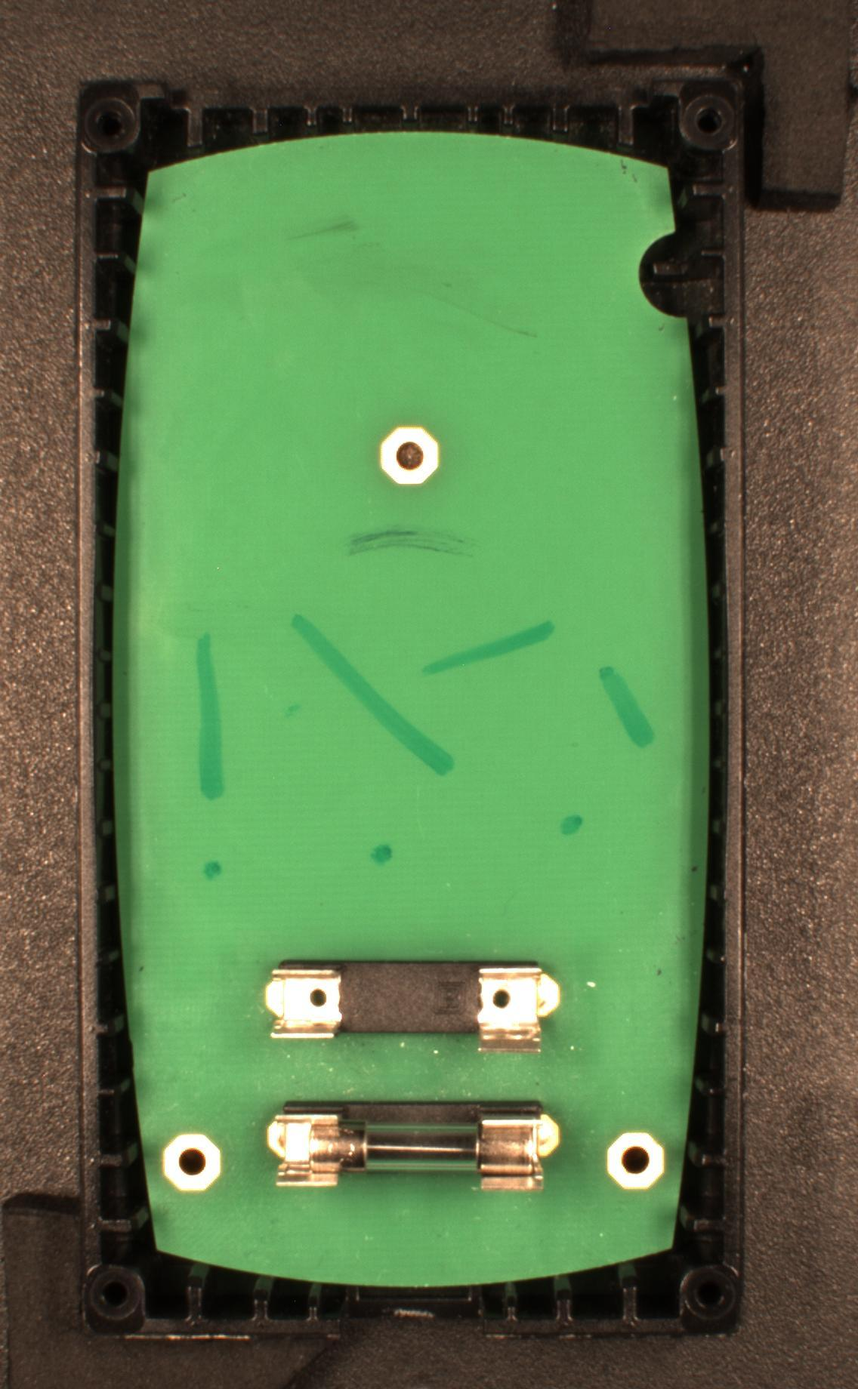Linijsko Ostecene: (290, 611, 459, 778), (421, 619, 557, 678), (195, 632, 227, 801), (597, 664, 656, 751)
Nepostojanje osiguraca: (263, 957, 563, 1056)
Tockasto Ostecenje: (559, 813, 583, 838), (370, 844, 393, 867), (202, 861, 221, 881)
